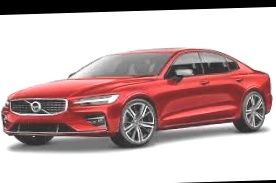car: (0, 33, 275, 156)
